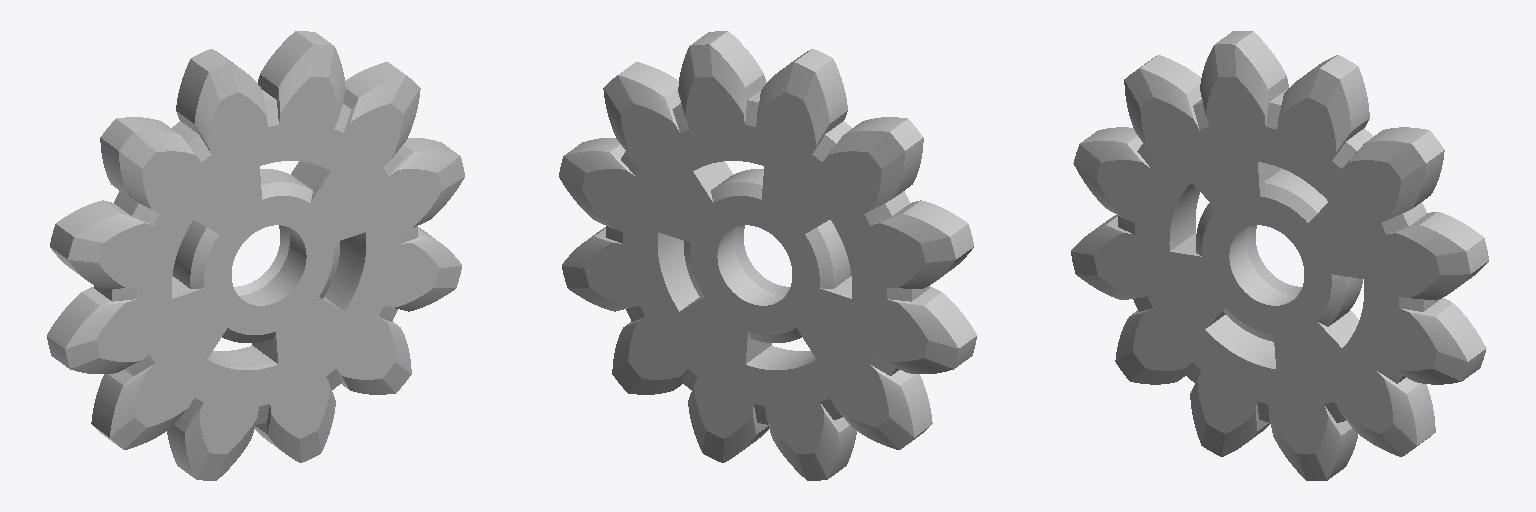
File: gearOut3.obj
The picture shows the model from 3 angles: view 1: azimuth 30°, elevation 25°; view 2: azimuth 150°, elevation 25°; view 3: azimuth 330°, elevation 25°; orthographic projection.
Size of the model in its own units: 2.89 by 2.89 by 0.3272.